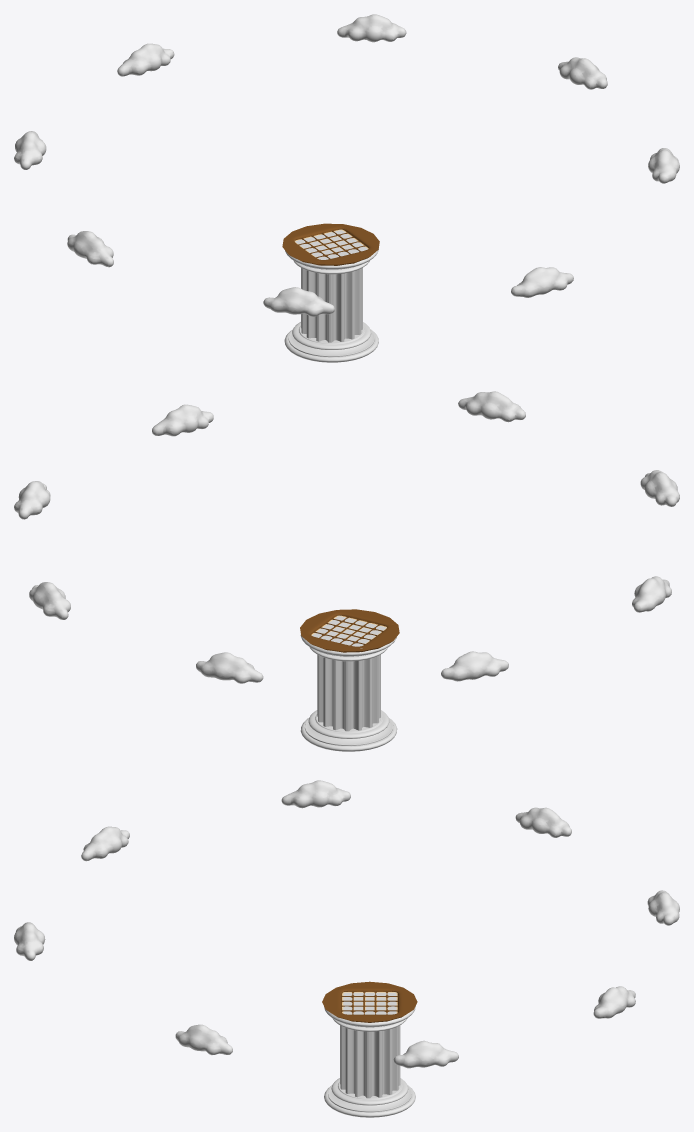
Rendered from stand2.fbx.
3 renders of one model, top to bottom at view 1: azimuth 30°, elevation 25°; view 2: azimuth 150°, elevation 25°; view 3: azimuth 270°, elevation 25°, orthographic. The views are drawn at different scales.
Parts seen in each view (by area): view 1: Plane.001; view 2: Plane.001; view 3: Plane.001.
Boxes of the visible parts, left/top/right/bottom form: Plane.001: left=14, top=14, right=679, bottom=362; Plane.001: left=14, top=391, right=679, bottom=751; Plane.001: left=14, top=780, right=679, bottom=1117.
Bounding box in the file's own units: 5216 × 1698 × 5371.
